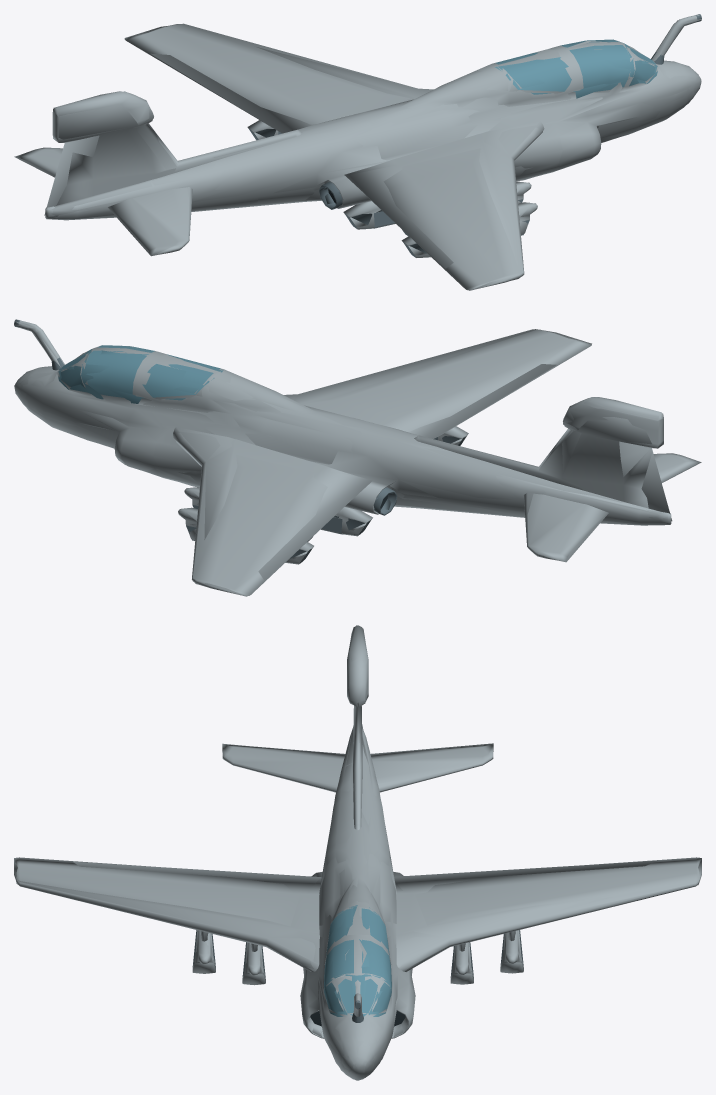
File: ewPlane.glb
The picture shows the model from 3 angles, top to bottom: view 1: azimuth 30°, elevation 25°; view 2: azimuth 150°, elevation 25°; view 3: azimuth 270°, elevation 25°; orthographic projection.
Visible parts, largest first — view 1: ea6b_prowler.003, ea6b_prowler.006, ea6b_prowler.001, ea6b_prowler.002, ea6b_prowler.005, ea6b_prowler.008; view 2: ea6b_prowler.003, ea6b_prowler.006, ea6b_prowler.001, ea6b_prowler.002, ea6b_prowler.005, ea6b_prowler.008; view 3: ea6b_prowler.003, ea6b_prowler.006, ea6b_prowler.001, ea6b_prowler.002.
Boxes of the visible parts, x1=… form: ea6b_prowler.003: x1=16, y1=15, x2=701, y2=290; ea6b_prowler.006: x1=14, y1=14, x2=701, y2=290; ea6b_prowler.001: x1=495, y1=39, x2=655, y2=94; ea6b_prowler.002: x1=495, y1=40, x2=657, y2=98; ea6b_prowler.005: x1=252, y1=14, x2=701, y2=256; ea6b_prowler.008: x1=248, y1=55, x2=662, y2=256; ea6b_prowler.003: x1=15, y1=320, x2=700, y2=596; ea6b_prowler.006: x1=14, y1=319, x2=701, y2=596; ea6b_prowler.001: x1=60, y1=345, x2=220, y2=400; ea6b_prowler.002: x1=58, y1=346, x2=223, y2=403; ea6b_prowler.005: x1=14, y1=319, x2=466, y2=562; ea6b_prowler.008: x1=53, y1=361, x2=464, y2=563; ea6b_prowler.003: x1=14, y1=625, x2=701, y2=1080; ea6b_prowler.006: x1=14, y1=625, x2=701, y2=1080; ea6b_prowler.001: x1=324, y1=908, x2=391, y2=1013; ea6b_prowler.002: x1=324, y1=905, x2=391, y2=1016.
Bounding box in the file's own units: 9.41 × 2.71 × 8.58.
